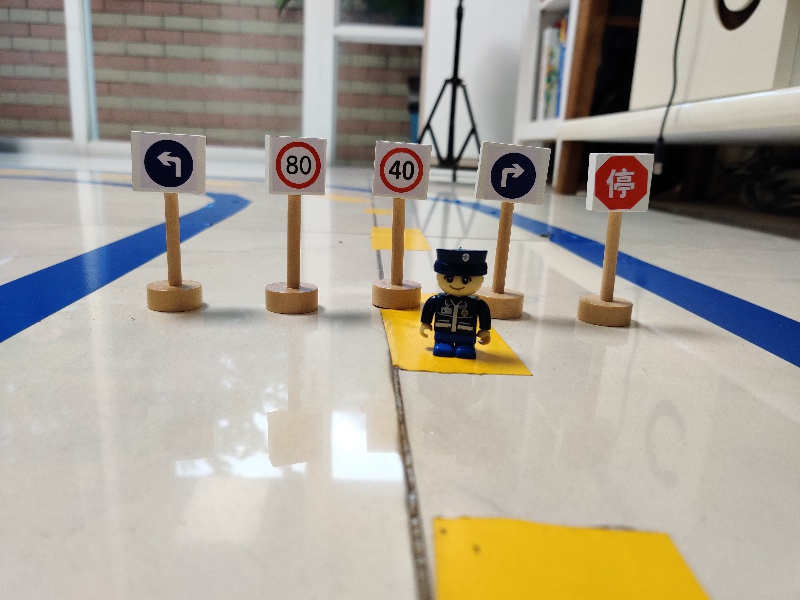limit_40: (370, 137, 434, 200)
limit_80: (263, 133, 329, 195)
person: (416, 245, 496, 363)
stop: (585, 151, 655, 213)
turn_left: (126, 127, 208, 195)
turn_right: (472, 137, 552, 205)
